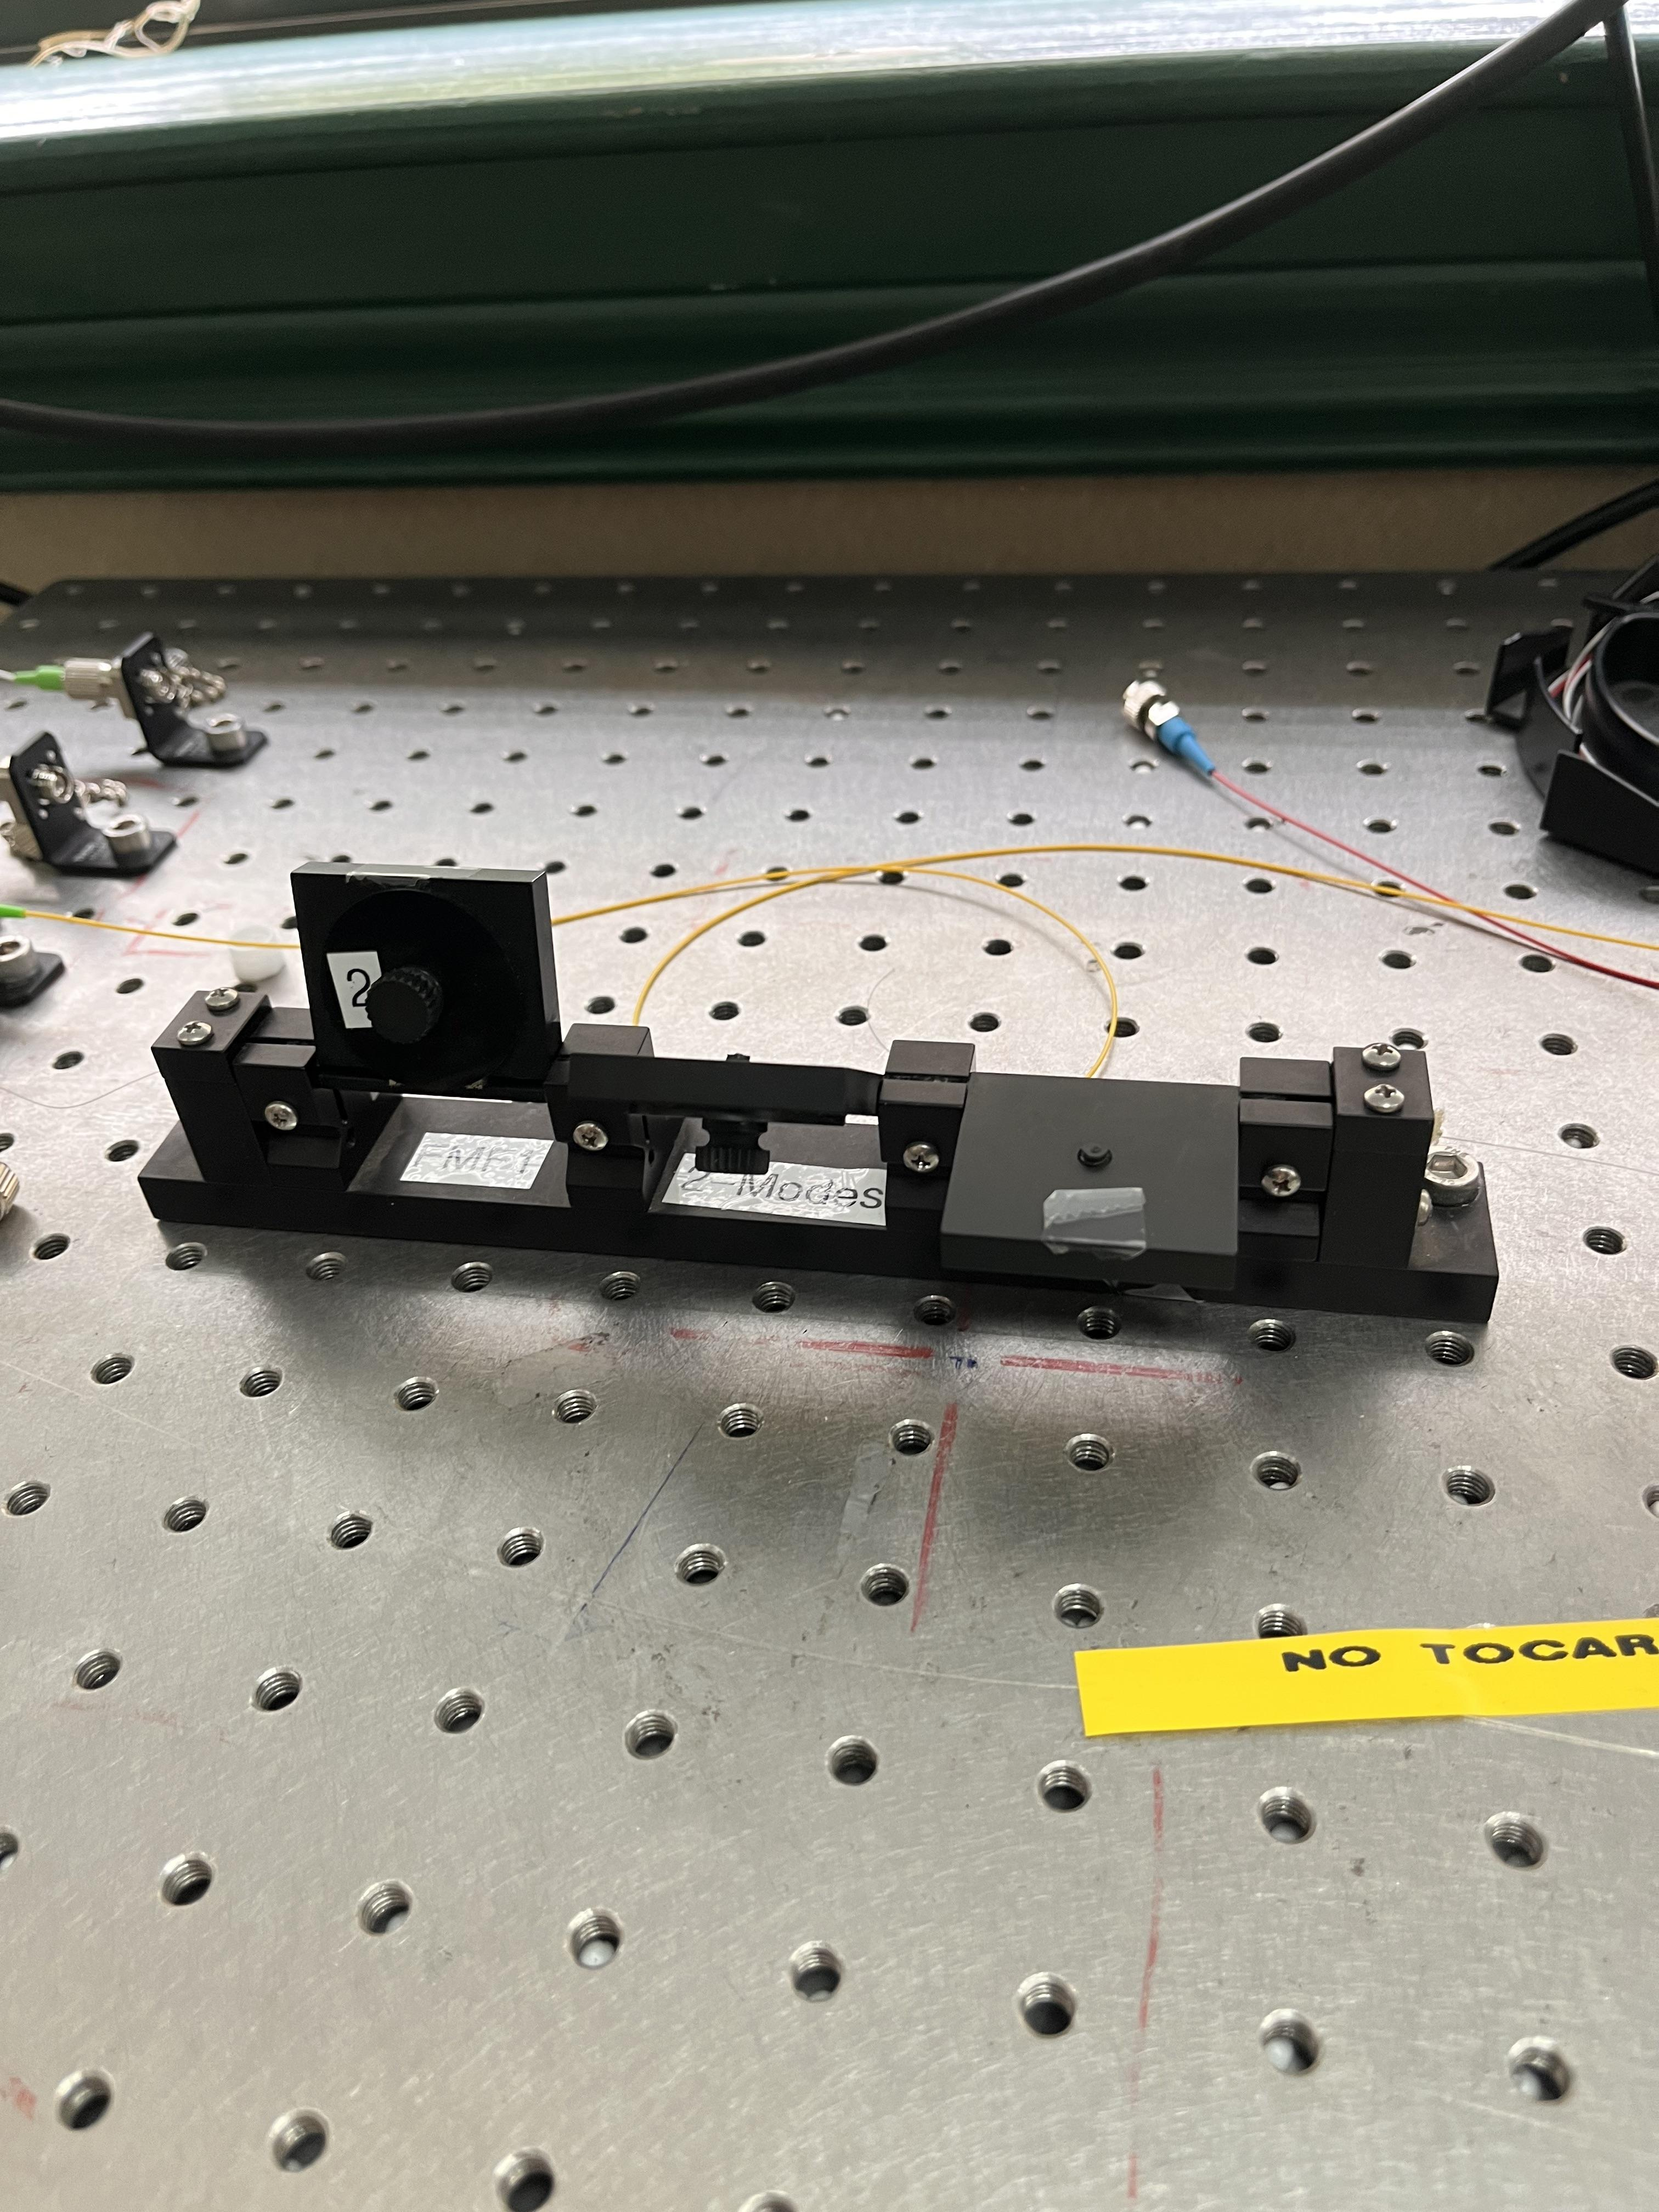paddle_polarization_controller: (125, 841, 1516, 1332)
